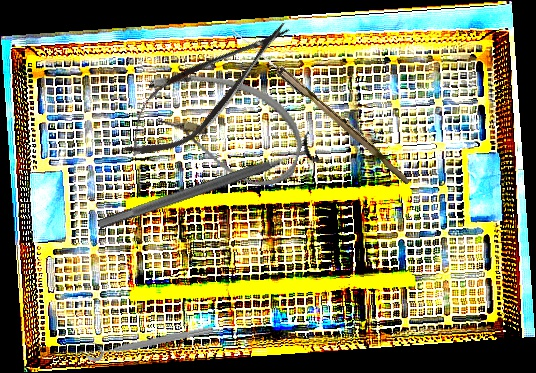Cannula: (130, 56, 315, 196)
Fixation Ring: (92, 128, 321, 243), (83, 315, 215, 364)
Micro Scissor: (106, 0, 307, 177)
Surgical Spoon: (227, 26, 415, 185)
